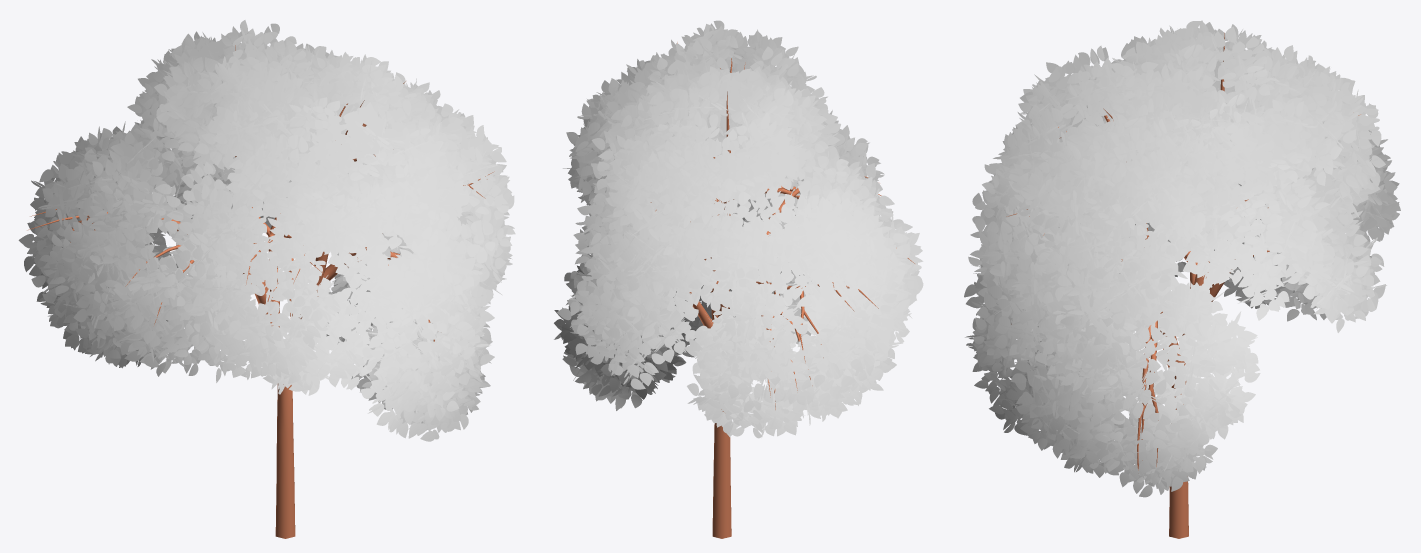
Rendered from drzewko_LOD0.fbx.
The picture shows the model from 3 angles, left to right: view 1: azimuth 30°, elevation 25°; view 2: azimuth 150°, elevation 25°; view 3: azimuth 270°, elevation 25°; orthographic projection. The views are drawn at different scales.
Visible parts, largest first — view 1: Leaf.011, Trunk; view 2: Leaf.011, Trunk; view 3: Leaf.011, Trunk.
Part boxes in pixels (bbox=[...]): Leaf.011: bbox=[18, 20, 515, 441]; Trunk: bbox=[27, 45, 494, 538]; Leaf.011: bbox=[554, 20, 923, 438]; Trunk: bbox=[650, 42, 914, 538]; Leaf.011: bbox=[964, 20, 1400, 497]; Trunk: bbox=[1006, 33, 1360, 538].
Size of the model in its own units: 823 by 862 by 1015.
